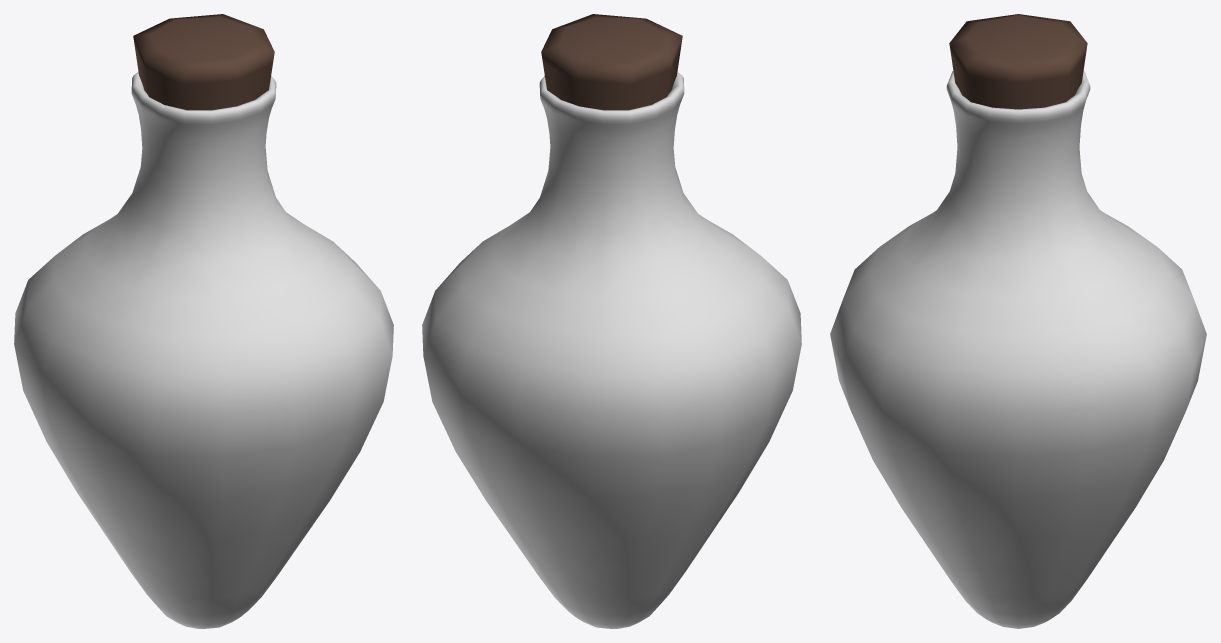
Rendered from potion4_empty.glb.
3 views of the same model, side by side, from view 1: azimuth 30°, elevation 25°; view 2: azimuth 150°, elevation 25°; view 3: azimuth 270°, elevation 25° (orthographic).
Parts seen in each view (by area): view 1: Potion4_Empty; view 2: Potion4_Empty; view 3: Potion4_Empty.
Boxes of the visible parts, x1=… form: Potion4_Empty: x1=14, y1=14, x2=393, y2=628; Potion4_Empty: x1=422, y1=14, x2=801, y2=628; Potion4_Empty: x1=830, y1=14, x2=1206, y2=628.
Size of the model in its own units: 0.7187 by 1.24 by 0.7187.
